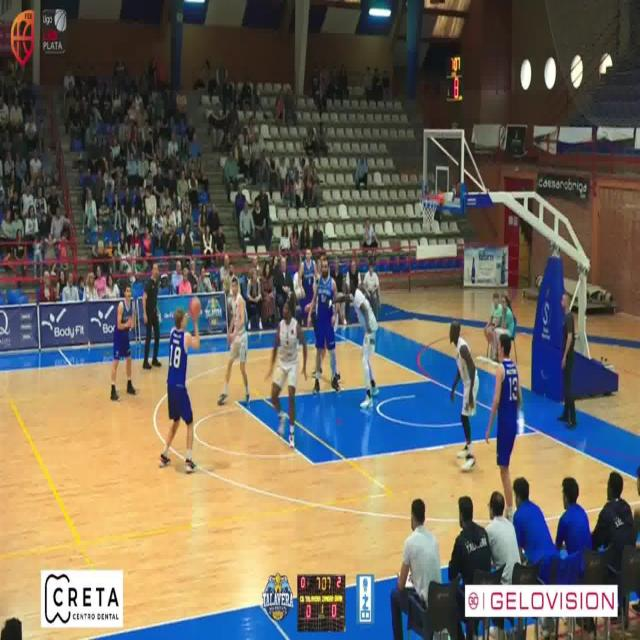ball: (188, 296, 201, 319)
basket: (422, 197, 440, 233)
player: (159, 297, 200, 473), (486, 332, 523, 520), (267, 302, 307, 448), (307, 253, 341, 393), (450, 320, 480, 471), (217, 276, 250, 405), (350, 284, 379, 408), (110, 283, 136, 400), (300, 247, 317, 303)
referee: (559, 292, 578, 428), (142, 263, 160, 369)
